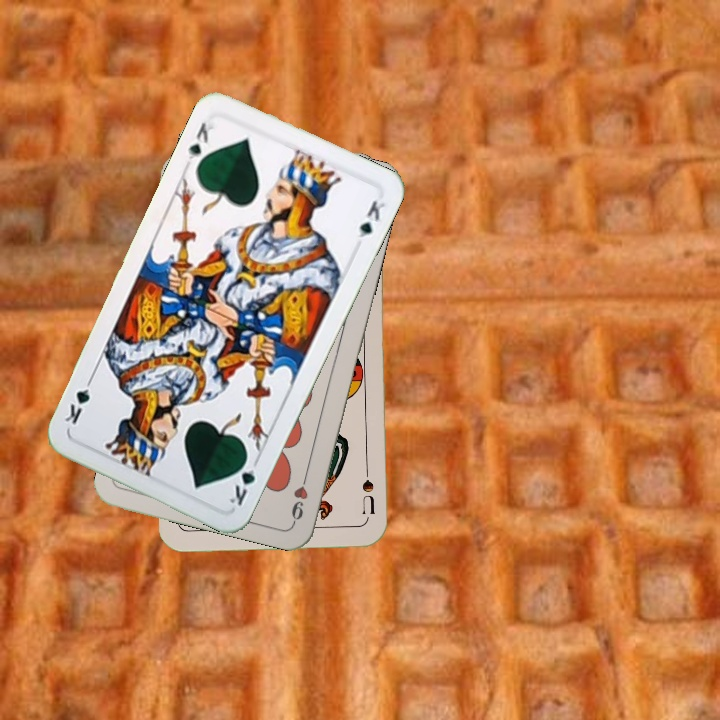GK: (224, 451, 262, 509), (182, 116, 217, 168)
H9: (287, 467, 311, 525)
SU: (357, 467, 377, 517)
